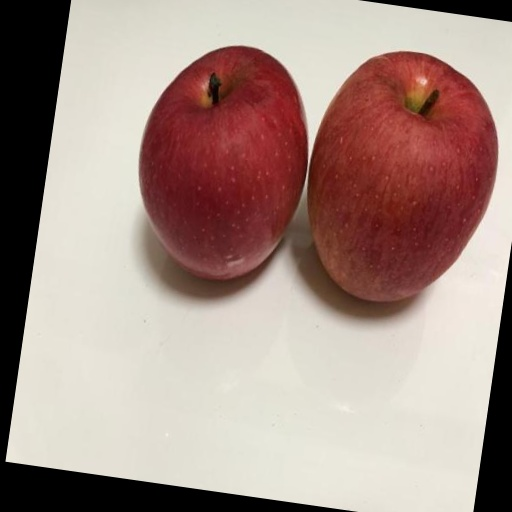fruit: (308, 52, 498, 301), (139, 46, 308, 279)
